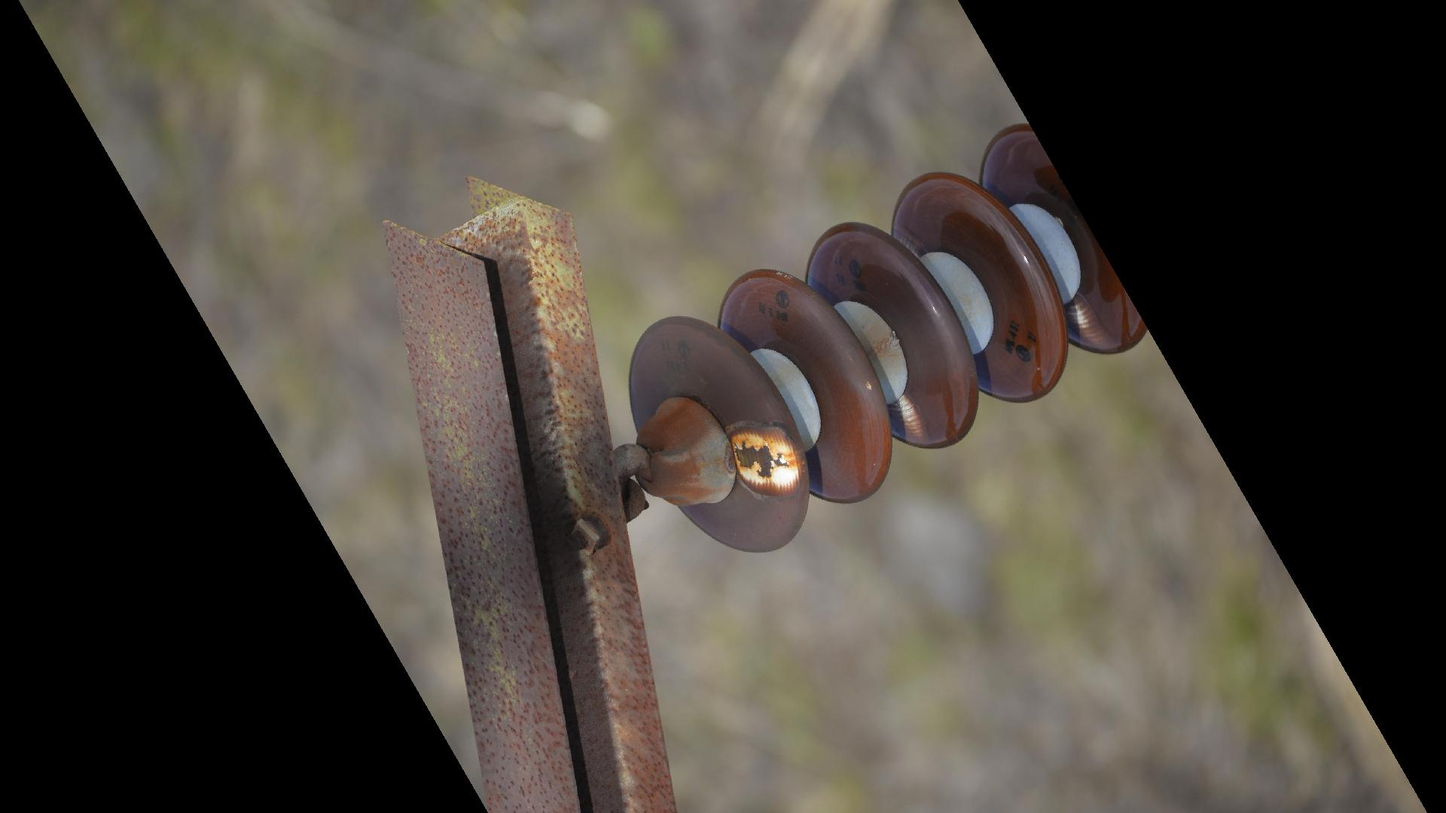insulator: (621, 117, 1155, 558)
insulator_flashover: (727, 422, 807, 498), (1060, 291, 1119, 353), (891, 392, 930, 446)
